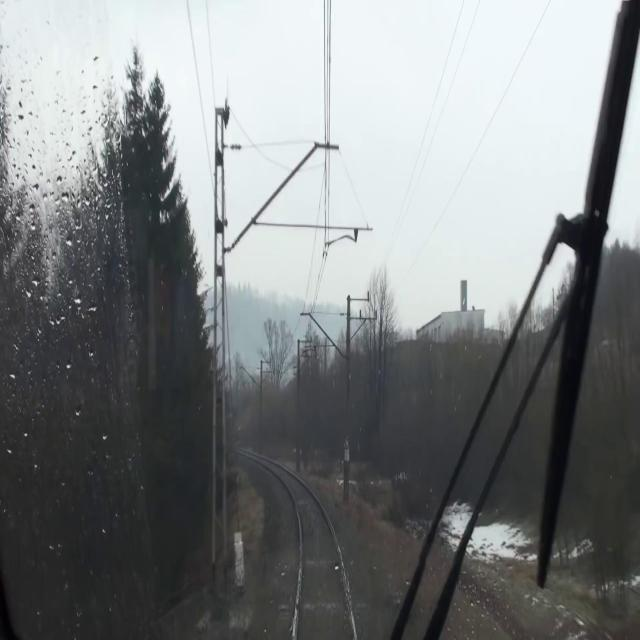rail-track: (279, 472, 351, 639)
